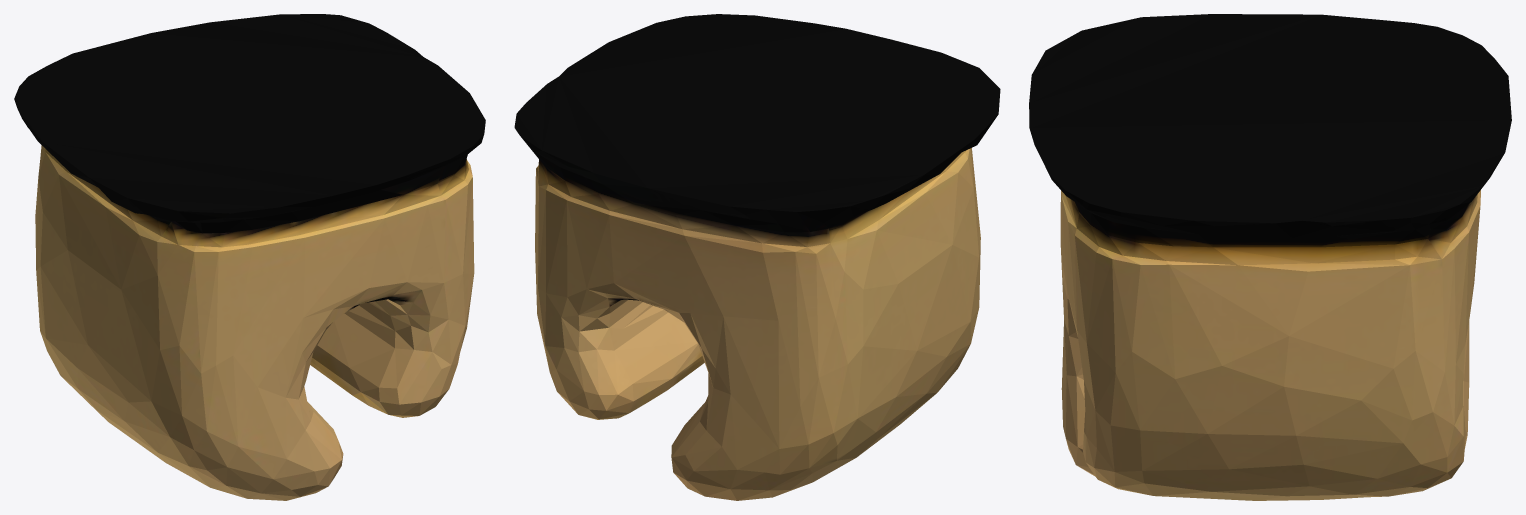
The model's file is RightHand.glb.
3 views of the same model, side by side, from view 1: azimuth 30°, elevation 25°; view 2: azimuth 150°, elevation 25°; view 3: azimuth 270°, elevation 25° (orthographic). The views are drawn at different scales.
Visible parts, largest first — view 1: RightHand; view 2: RightHand; view 3: RightHand.
Boxes of the visible parts, x1,y1,x2,y2 form: RightHand: (14,14,485,500); RightHand: (514,14,1000,500); RightHand: (1029,14,1511,500).
Size of the model in its own units: 0.9732 by 0.8394 by 0.9491.
1 material, 1 textured.
